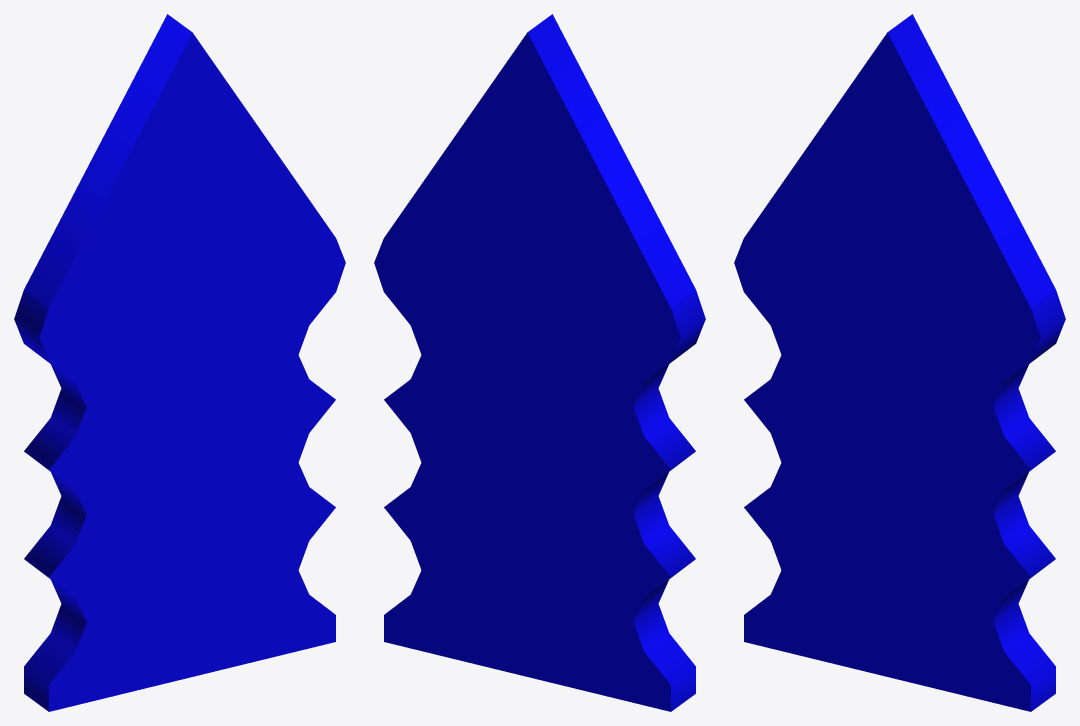
File: dague.FBX
3 renders of one model, left to right at view 1: azimuth 30°, elevation 25°; view 2: azimuth 150°, elevation 25°; view 3: azimuth 330°, elevation 25°, orthographic.
Visible parts, largest first — view 1: Boîte001; view 2: Boîte001; view 3: Boîte001.
Part boxes in pixels (x1,y1,x2,y2): Boîte001: (14,14,345,711); Boîte001: (374,14,705,711); Boîte001: (734,14,1065,711).
Size of the model in its own units: 22.53 by 45.26 by 3.2.
